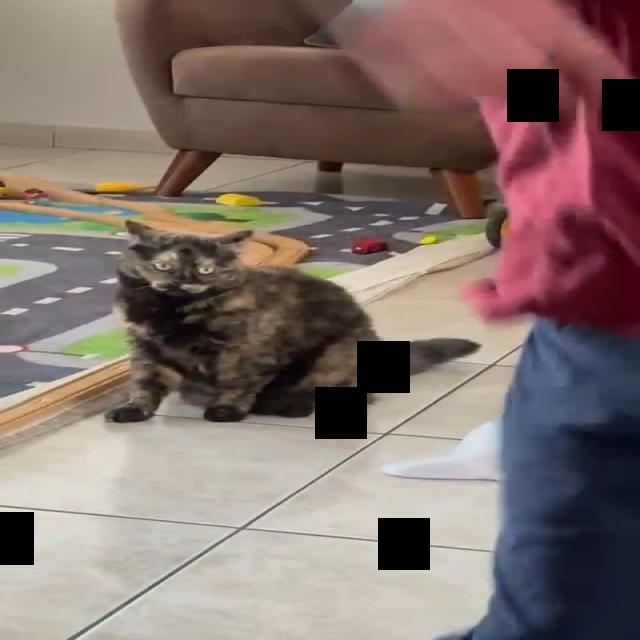authorized: (104, 219, 481, 423)
